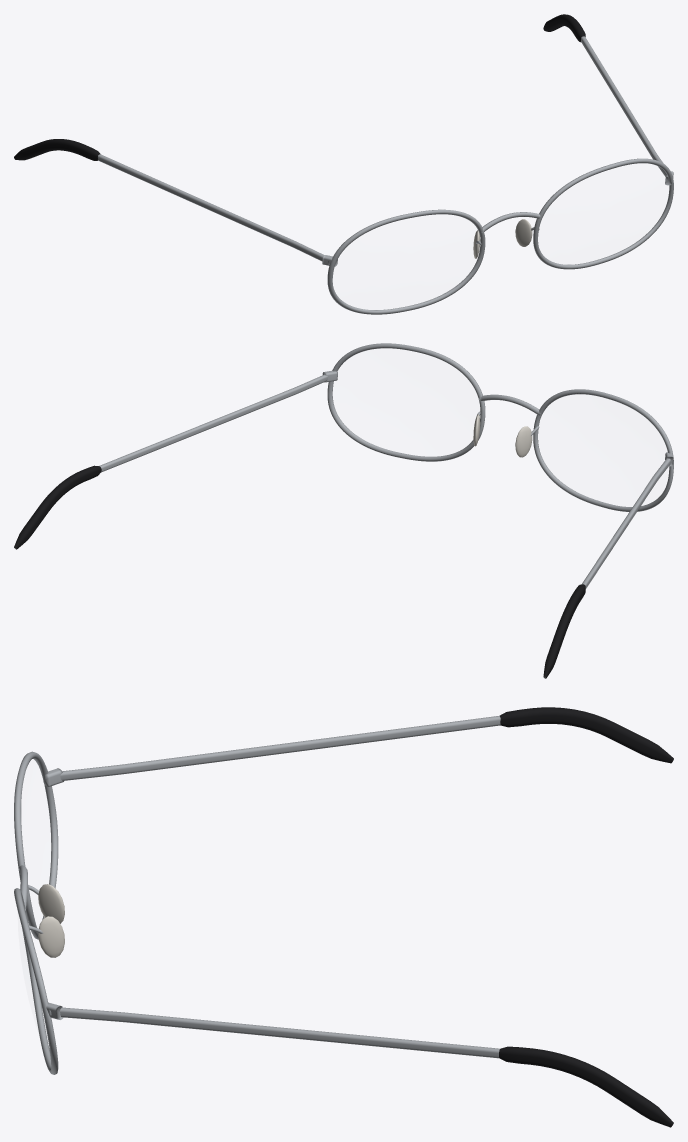
File: oval-wire.glb
3 renders of one model, top to bottom at view 1: azimuth 30°, elevation 25°; view 2: azimuth 150°, elevation 25°; view 3: azimuth 270°, elevation 25°, orthographic. The views are drawn at different scales.
Parts seen in each view (by area): view 1: glasses; view 2: glasses; view 3: glasses.
Boxes of the visible parts, x1,y1,x2,y2 form: glasses: (14, 14, 673, 314); glasses: (14, 343, 673, 678); glasses: (14, 707, 673, 1127).
Bounding box in the file's own units: 0.1812 × 0.0342 × 0.1378.
Materials: 2 (1 with a texture image).
